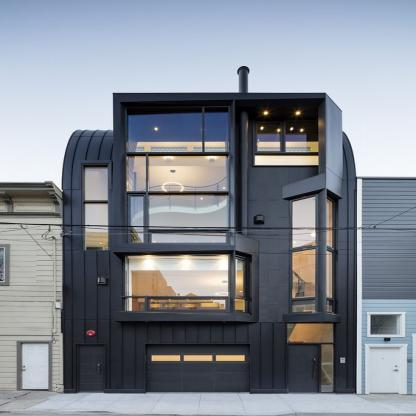Building Outline: (61, 66, 356, 393)
Door: (145, 344, 249, 393), (289, 344, 319, 392), (77, 345, 105, 392)
Facade: (61, 65, 357, 393)
Floor Slab: (64, 313, 352, 320), (65, 251, 291, 257)
Glass Wall: (126, 106, 229, 243), (125, 256, 228, 312), (292, 196, 316, 313), (254, 122, 318, 165), (326, 197, 335, 314), (235, 258, 245, 312)
Window: (83, 166, 108, 251), (286, 324, 334, 342), (321, 344, 333, 392)
